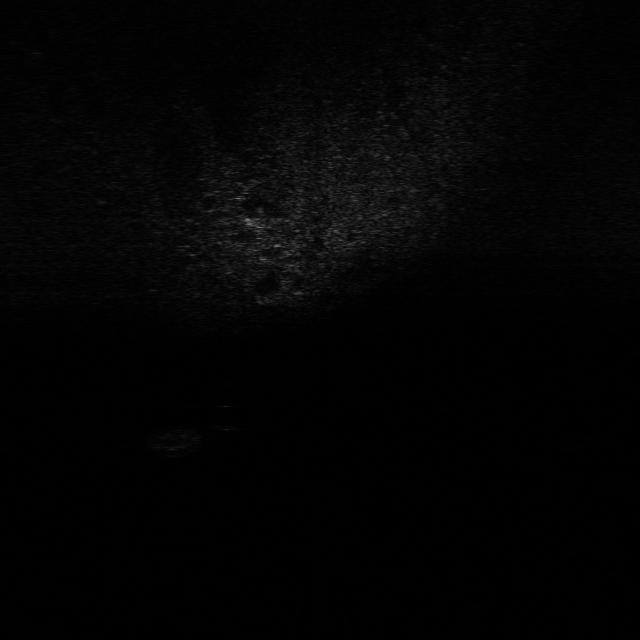ball: (207, 402, 246, 432)
circle cage: (142, 426, 203, 460)
